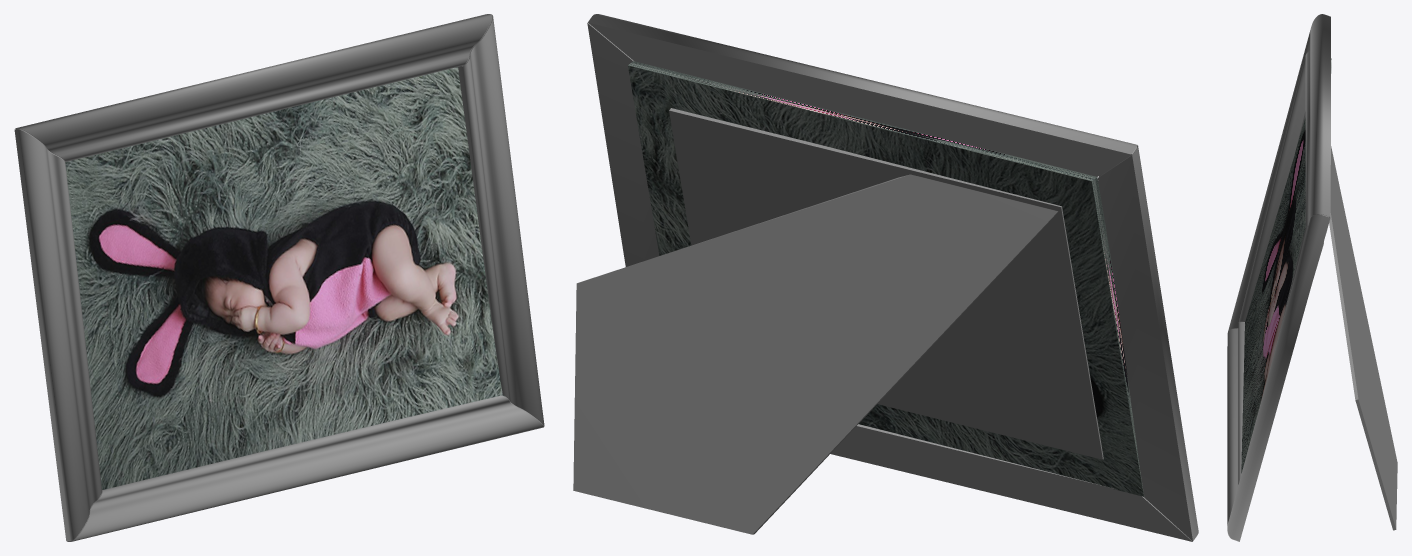
File: xiangkuang.FBX
3 renders of one model, left to right at view 1: azimuth 30°, elevation 25°; view 2: azimuth 150°, elevation 25°; view 3: azimuth 270°, elevation 25°, orthographic. The views are drawn at different scales.
Visible parts, largest first — view 1: xiangkuang; view 2: xiangkuang; view 3: xiangkuang.
Part boxes in pixels (<box>): xiangkuang: <box>14,14,544,541</box>; xiangkuang: <box>573,14,1198,541</box>; xiangkuang: <box>1227,14,1397,541</box>.
Bounding box in the file's own units: 29.22 × 22.32 × 10.49.
2 materials, 1 textured.
